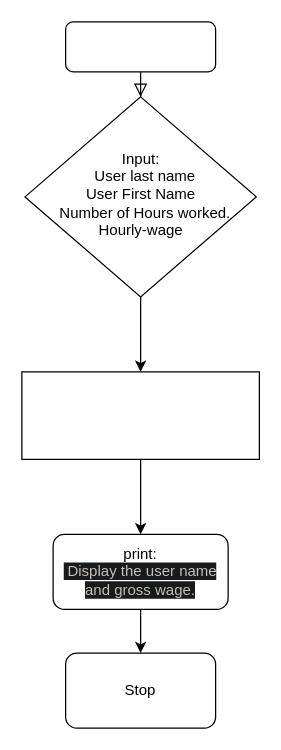
This 281x750 diagram has some shape labels left out. The centre of each missing label's shape, as x and y in pixels:
"result: number of hours worked multiplied by hourly-wage." goes at point 140,415.
"Start" goes at point 140,46.
